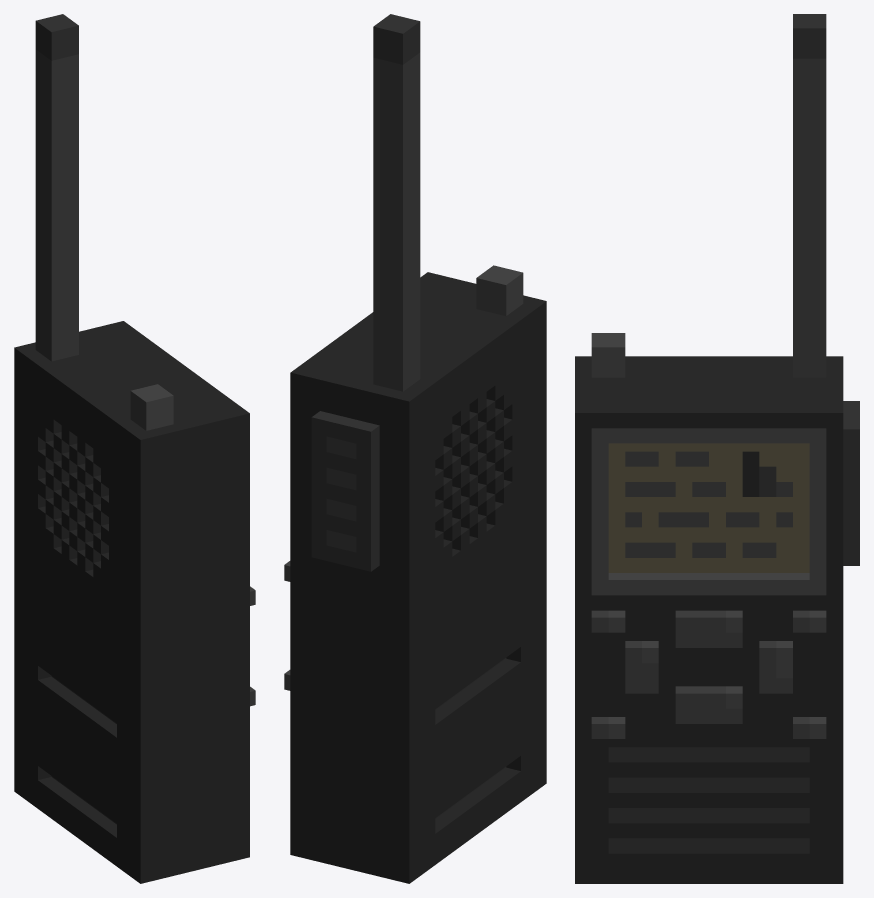
File: Radio.obj
3 renders of one model, left to right at view 1: azimuth 30°, elevation 25°; view 2: azimuth 150°, elevation 25°; view 3: azimuth 270°, elevation 25°, orthographic. The views are drawn at different scales.
Bounding box in the file's own units: 0.9 × 5.4 × 1.7.
1 material, 1 textured.
